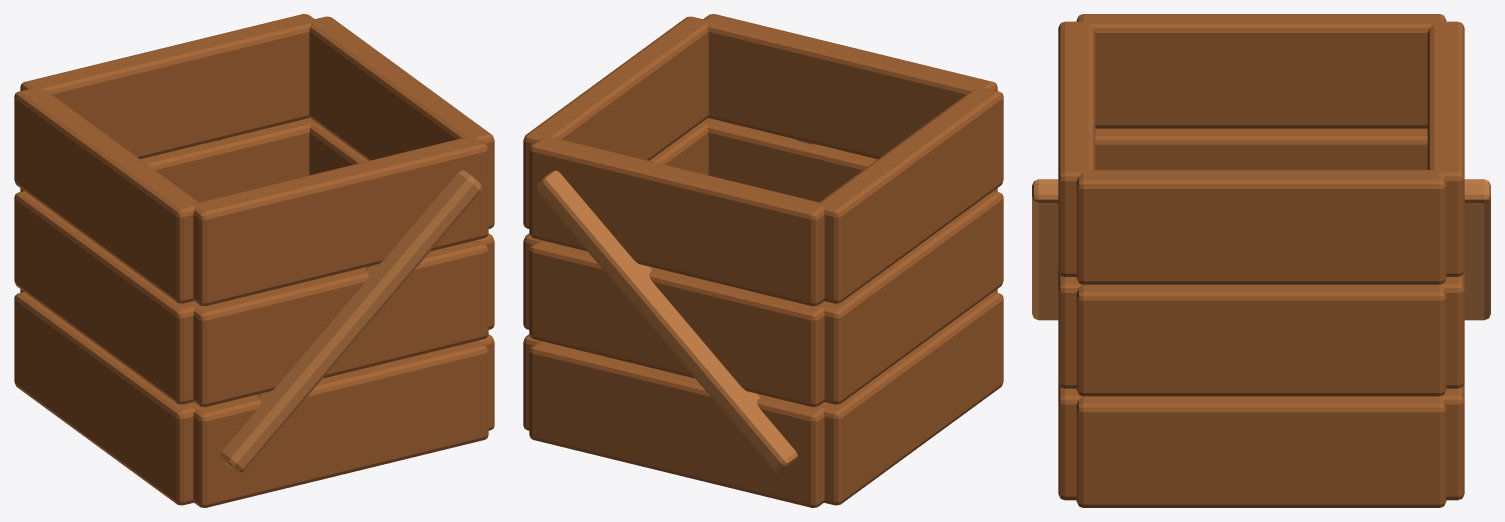
Rendered from kit_open_crate.glb.
The picture shows the model from 3 angles, left to right: view 1: azimuth 30°, elevation 25°; view 2: azimuth 150°, elevation 25°; view 3: azimuth 270°, elevation 25°; orthographic projection. The views are drawn at different scales.
Visible parts, largest first — view 1: Open crate side plank.004, Open crate side plank, Open crate side plank.002, Open crate side plank.005, Open crate end plank.004, Open crate end plank.002, Open crate end plank, Open crate end plank.005, Open crate diagonal, Open crate side plank.003, Open crate end plank.003, Open crate end plank.001; view 2: Open crate side plank.005, Open crate side plank.001, Open crate side plank.003, Open crate side plank.004, Open crate end plank.004, Open crate end plank.002, Open crate end plank, Open crate end plank.005, Open crate diagonal.001, Open crate side plank.002, Open crate end plank.003, Open crate end plank.001; view 3: Open crate end plank.005, Open crate end plank.003, Open crate end plank.001, Open crate end plank.004, Open crate end plank.002, Open crate side plank.004, Open crate side plank.005, Open crate diagonal, Open crate diagonal.001, Open crate side plank, Open crate side plank.001, Open crate side plank.002 (+1 smaller).
Part boxes in pixels (x1,y1,x2,y2): Open crate side plank.004: (193,137,488,306); Open crate side plank: (193,341,488,507); Open crate side plank.002: (193,240,488,406); Open crate side plank.005: (20,14,315,159); Open crate end plank.004: (14,88,198,303); Open crate end plank.002: (14,191,199,404); Open crate end plank: (14,292,198,505); Open crate end plank.005: (309,16,494,228); Open crate diagonal: (220,170,482,472); Open crate side plank.003: (20,118,315,202); Open crate end plank.003: (309,121,494,329); Open crate end plank.001: (478,334,494,430); Open crate side plank.005: (529,137,824,306); Open crate side plank.001: (529,341,824,507); Open crate side plank.003: (529,240,824,406); Open crate side plank.004: (703,14,997,159); Open crate end plank.004: (818,88,1003,303); Open crate end plank.002: (818,191,1003,404); Open crate end plank: (818,292,1003,505); Open crate end plank.005: (523,16,708,228); Open crate diagonal.001: (535,170,797,472); Open crate side plank.002: (702,118,997,202); Open crate end plank.003: (523,121,708,329); Open crate end plank.001: (523,334,539,430); Open crate end plank.005: (1076,170,1446,284); Open crate end plank.003: (1076,284,1446,396); Open crate end plank.001: (1076,396,1446,507); Open crate end plank.004: (1076,14,1446,128); Open crate end plank.002: (1095,128,1427,169); Open crate side plank.004: (1058,21,1095,276); Open crate side plank.005: (1427,21,1464,276); Open crate diagonal: (1032,179,1058,320); Open crate diagonal.001: (1464,179,1490,320); Open crate side plank: (1058,383,1082,500); Open crate side plank.001: (1440,383,1464,500); Open crate side plank.002: (1058,271,1082,388).
Size of the model in its own units: 0.495 by 0.44 by 0.559.
